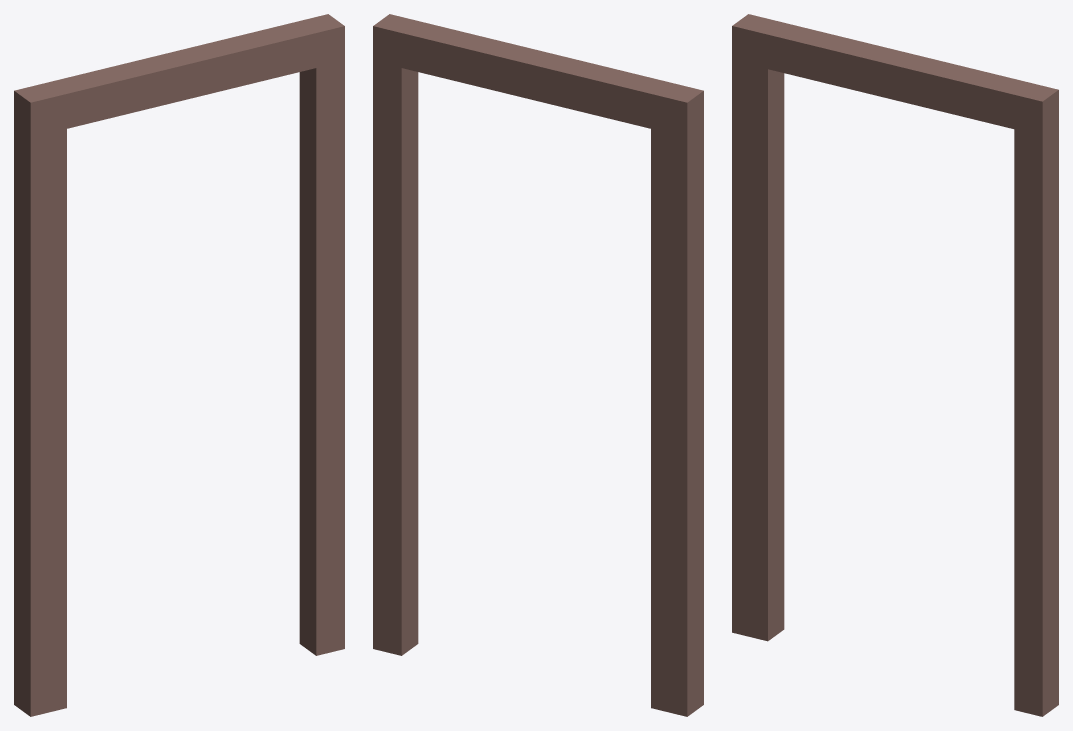
Rendered from MarcoPuerta.fbx.
3 renders of one model, left to right at view 1: azimuth 30°, elevation 25°; view 2: azimuth 150°, elevation 25°; view 3: azimuth 330°, elevation 25°, orthographic.
Parts seen in each view (by area): view 1: Cube.033; view 2: Cube.033; view 3: Cube.033.
Part boxes in pixels (<box>): Cube.033: <box>14,14,344,716</box>; Cube.033: <box>373,14,703,716</box>; Cube.033: <box>732,14,1058,716</box>.
Bounding box in the file's own units: 270 × 512 × 24.6.
